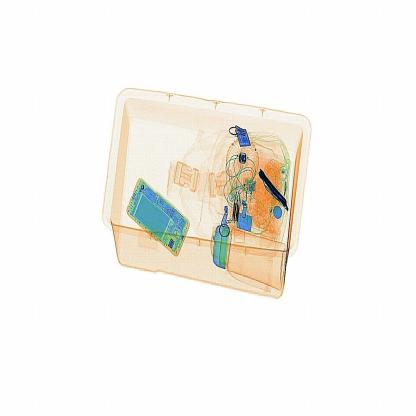knife: (256, 169, 288, 213)
